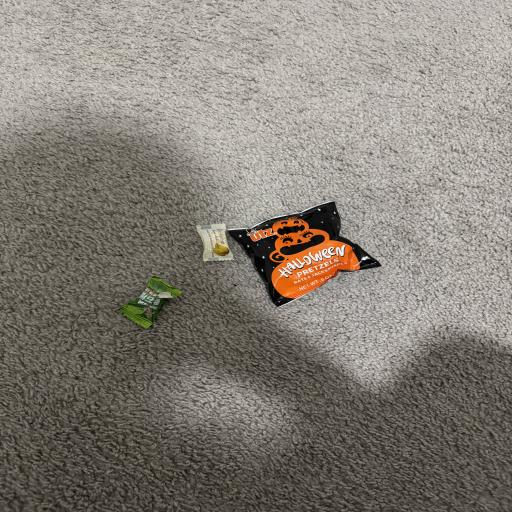chocolate: (229, 202, 380, 306), (120, 277, 181, 328), (197, 224, 233, 261)
